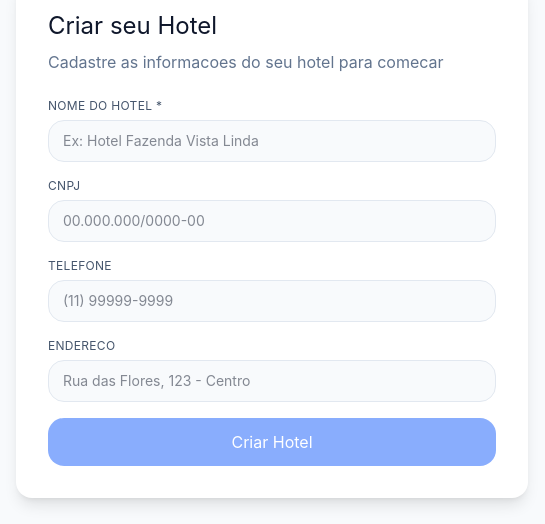
Scenario: CreateEmpresa (expanded) › shows Criando... while saving
Type "Hotel X" into the field with placeholder "Ex: Hotel Fazenda Vista Linda" at x=272, y=141, box [48,120,496,162]
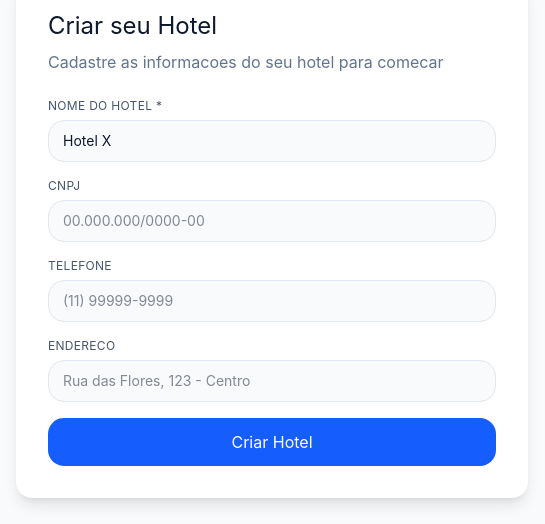
Submit the text "Criar Hotel", box [48,98,496,466]
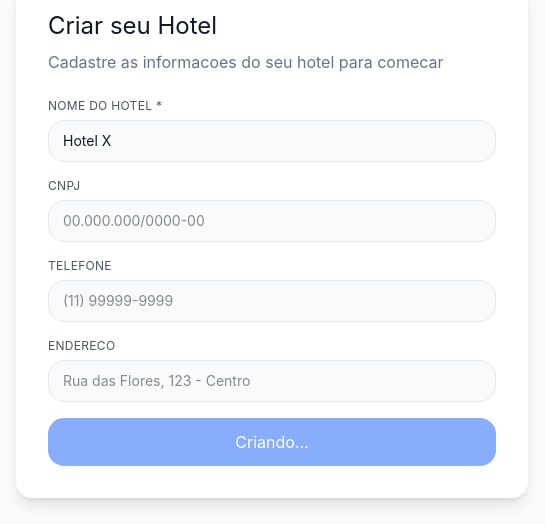
Expected: the button "Criando..." is shown, [48,418,496,466]
